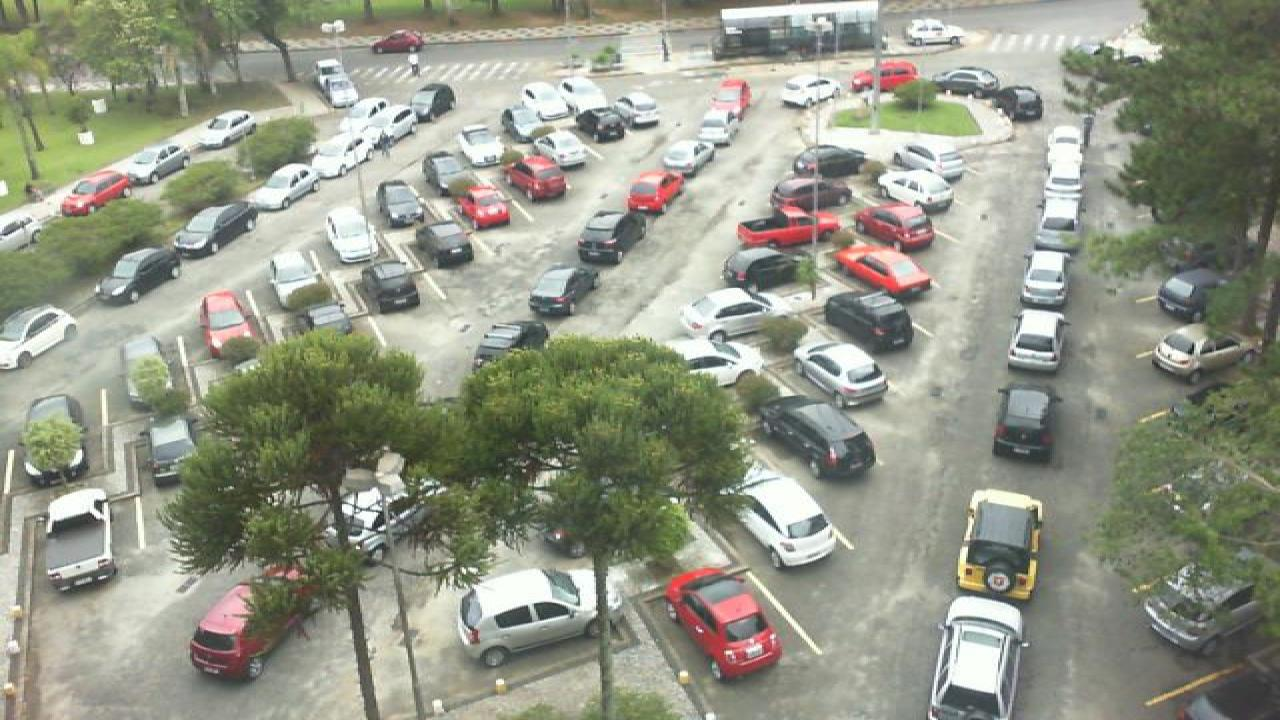Car: (456, 566, 618, 668), (664, 564, 782, 684), (928, 594, 1034, 720), (720, 463, 842, 570), (188, 570, 296, 683), (1140, 558, 1258, 652), (758, 394, 878, 480), (956, 488, 1046, 602), (38, 488, 122, 594), (1150, 320, 1260, 384), (16, 394, 88, 487), (792, 341, 892, 407), (678, 286, 792, 343), (822, 285, 914, 353), (988, 384, 1060, 464), (836, 242, 936, 298), (94, 246, 184, 308), (170, 200, 258, 259), (664, 338, 766, 388), (0, 306, 78, 371), (196, 287, 260, 359), (734, 206, 842, 248), (472, 320, 552, 376), (576, 208, 648, 268), (854, 201, 938, 251), (720, 246, 810, 292), (1004, 307, 1068, 371), (526, 261, 598, 317), (240, 162, 320, 212), (148, 415, 202, 487), (876, 166, 956, 214), (1156, 266, 1224, 322), (58, 169, 136, 217), (356, 259, 422, 315), (326, 204, 380, 266), (270, 245, 324, 307), (414, 218, 478, 270), (502, 153, 568, 203), (116, 142, 192, 185), (770, 174, 852, 212), (788, 144, 866, 181), (1020, 248, 1068, 308), (894, 142, 968, 179), (306, 135, 368, 179), (376, 178, 428, 230), (1034, 196, 1082, 252), (454, 182, 512, 228), (628, 169, 686, 215), (192, 109, 260, 146), (422, 151, 474, 197), (850, 58, 920, 92), (456, 124, 510, 168), (986, 81, 1044, 121), (660, 137, 716, 178), (534, 129, 590, 170), (556, 74, 612, 114), (778, 72, 840, 108), (502, 99, 556, 138), (522, 77, 572, 118), (576, 106, 628, 144), (350, 123, 398, 164), (410, 82, 458, 123), (614, 89, 662, 129), (1046, 156, 1088, 200), (932, 66, 1000, 93), (708, 77, 752, 117), (692, 107, 738, 145), (1046, 122, 1084, 162), (318, 73, 360, 109)
